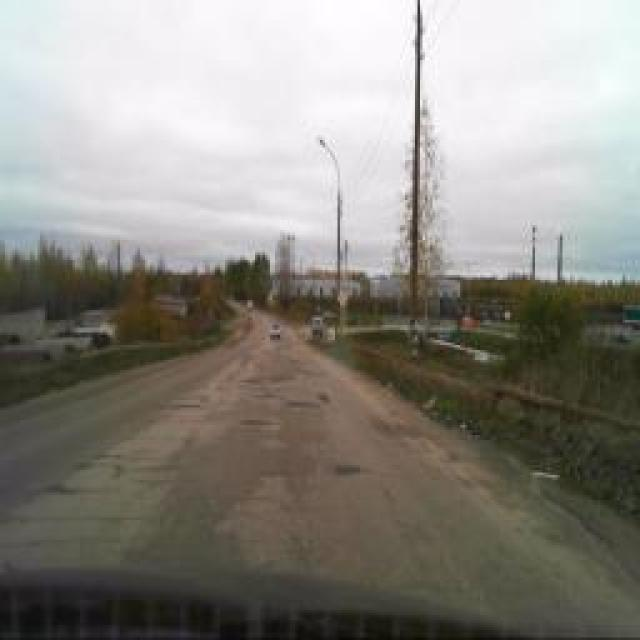sign: (338, 290, 348, 308)
